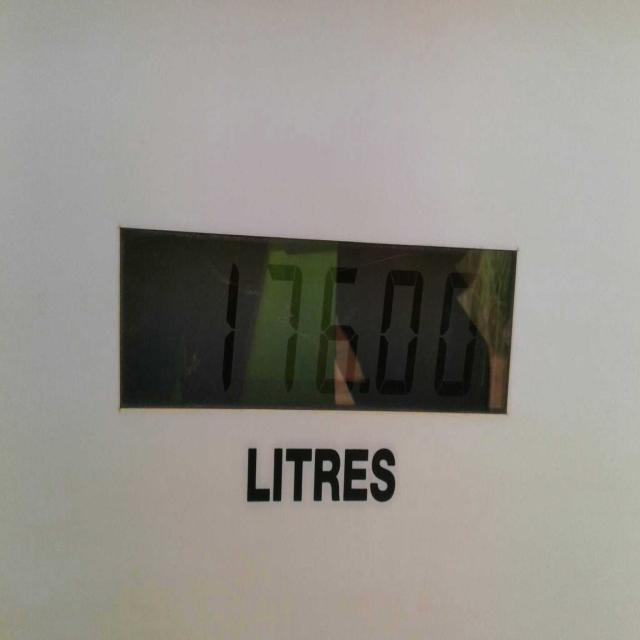.: (357, 368, 374, 407)
0: (432, 262, 486, 408), (373, 257, 421, 400)
1: (214, 248, 253, 396)
6: (312, 258, 361, 408)
7: (261, 247, 309, 406)
